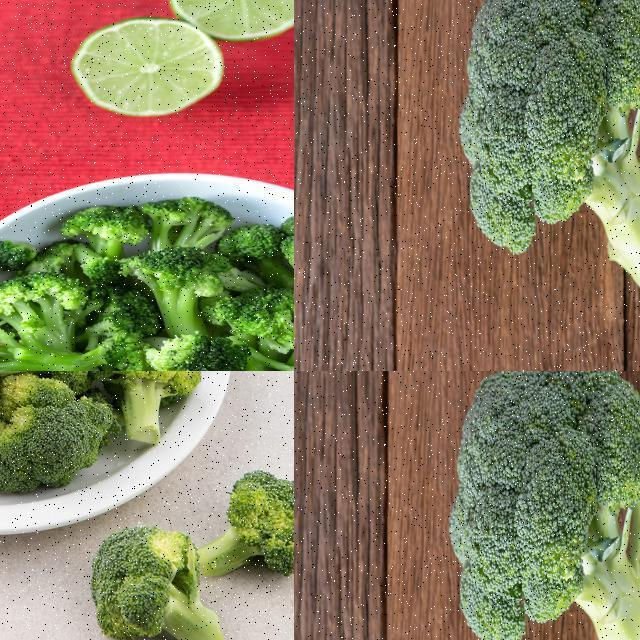broccoli: (444, 0, 639, 346), (434, 371, 639, 639), (0, 371, 203, 489), (93, 522, 225, 639), (121, 244, 231, 345), (197, 472, 293, 583), (0, 272, 102, 362), (204, 286, 293, 362), (0, 330, 116, 370)
